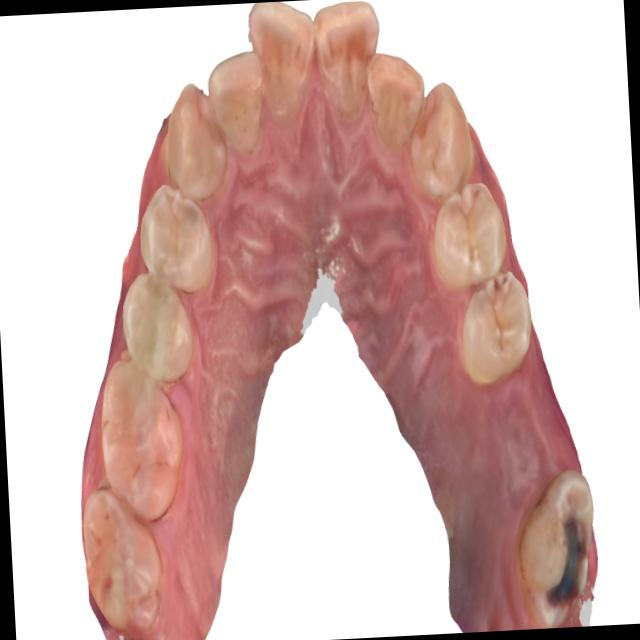tooth: (94, 347, 199, 537), (502, 452, 605, 630), (78, 483, 176, 640), (421, 161, 520, 307), (400, 57, 487, 217), (446, 263, 542, 390), (114, 260, 202, 395), (134, 175, 224, 298), (309, 0, 387, 139), (161, 75, 239, 212), (247, 0, 322, 141), (361, 34, 433, 170), (204, 43, 267, 161)
